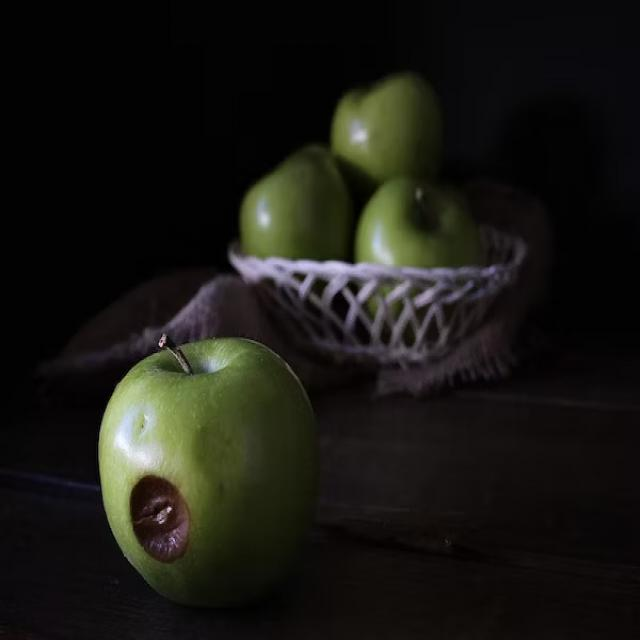Rotten: (90, 341, 310, 640)
